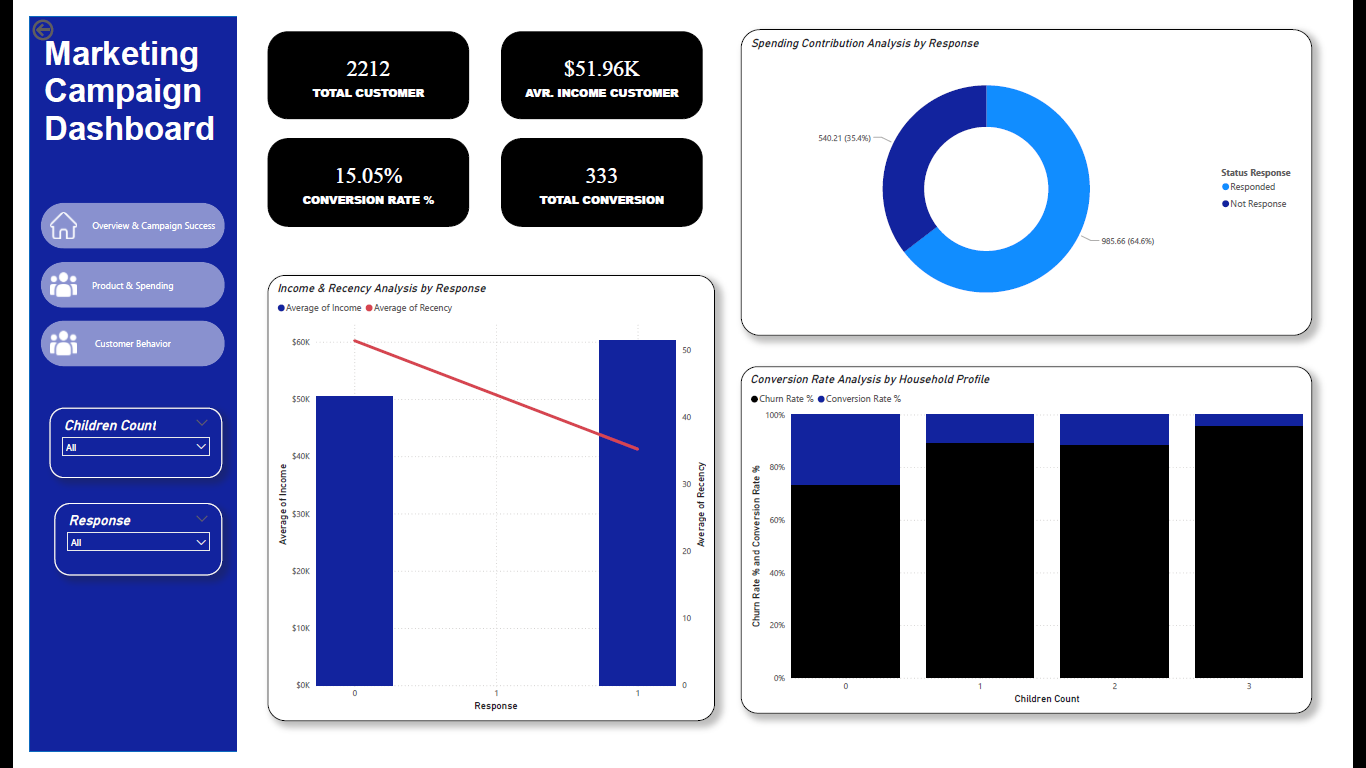

Layout of this report page (visuals, bound fields, positions):
{"tool":"powerbi","page":{"name":"Overview & Campaign Success","canvas":[1920,1080],"ordinal":0},"visuals":[{"type":"shape","box":[0,0,304.6,1080],"z":0},{"type":"textbox","box":[17.3,21.6,278.6,205.2],"z":1000},{"type":"lineClusteredColumnComboChart","title":"Income & Recency Analysis by Response","fields":{"Category":["Data Cleaning.Response"],"Y":["Avg(Data Cleaning.Income)"],"Y2":["Avg(Data Cleaning.Recency)"]},"box":[349.9,380.2,656.6,654.5],"z":2000},{"type":"donutChart","title":"Spending Contribution Analysis by Response","fields":{"Y":["Avg(Data Cleaning.Total Spending)"],"Category":["Data Cleaning.Status Response"]},"box":[1045.4,19.4,838.1,449.3],"z":3000},{"type":"card","fields":{"Values":["CountNonNull(Data Cleaning.ID)"]},"box":[349.9,21.6,295.9,129.6],"z":4000},{"type":"card","fields":{"Values":["Avg(Data Cleaning.Income)"]},"box":[693.4,21.6,295.9,129.6],"z":5000},{"type":"actionButton","box":[0,0,100,40],"z":6000},{"type":"hundredPercentStackedColumnChart","title":"Conversion Rate Analysis by Household Profile","fields":{"Category":["Data Cleaning.Children Count"],"Y":["Data Cleaning.Churn Rate %","Data Cleaning.Conversion Rate %"]},"box":[1045.4,514.1,838.1,509.8],"z":7000},{"type":"card","fields":{"Values":["Data Cleaning.Conversion Rate %"]},"box":[349.9,179.3,295.9,129.6],"z":8000},{"type":"slicer","title":"RESPONSE","fields":{"Values":["Data Cleaning.Response"]},"box":[36.7,715,246.2,105.8],"z":9000},{"type":"slicer","fields":{"Values":["Data Cleaning.Children Count"]},"box":[30.2,574.6,252.7,103.7],"z":10000},{"type":"card","fields":{"Values":["Data Cleaning.Total Response 1"]},"box":[693.4,179.3,295.9,129.6],"z":11000},{"type":"actionButton","box":[17.3,274.3,270,67],"z":12000},{"type":"actionButton","box":[17.3,360.7,270,67],"z":13000},{"type":"actionButton","box":[17.3,447.1,270,67],"z":14000}]}

Visuals, with their boxes in screenshot pixels (x1, y1, x2, y2), scaled from the page's 1920x1080 canvas onto the 1366x768 screenshot:
shape: [left=0, top=0, right=217, bottom=767]
textbox: [left=12, top=15, right=211, bottom=161]
"Income & Recency Analysis by Response" lineClusteredColumnComboChart: [left=249, top=270, right=716, bottom=736]
"Spending Contribution Analysis by Response" donutChart: [left=744, top=14, right=1340, bottom=333]
card - CountNonNull(Data Cleaning.ID): [left=249, top=15, right=459, bottom=108]
card - Avg(Data Cleaning.Income): [left=493, top=15, right=704, bottom=108]
actionButton: [left=0, top=0, right=71, bottom=28]
"Conversion Rate Analysis by Household Profile" hundredPercentStackedColumnChart: [left=744, top=366, right=1340, bottom=728]
card - Data Cleaning.Conversion Rate %: [left=249, top=128, right=459, bottom=220]
"RESPONSE" slicer: [left=26, top=508, right=201, bottom=584]
slicer - Data Cleaning.Children Count: [left=21, top=409, right=201, bottom=482]
card - Data Cleaning.Total Response 1: [left=493, top=128, right=704, bottom=220]
actionButton: [left=12, top=195, right=204, bottom=243]
actionButton: [left=12, top=256, right=204, bottom=304]
actionButton: [left=12, top=318, right=204, bottom=366]
